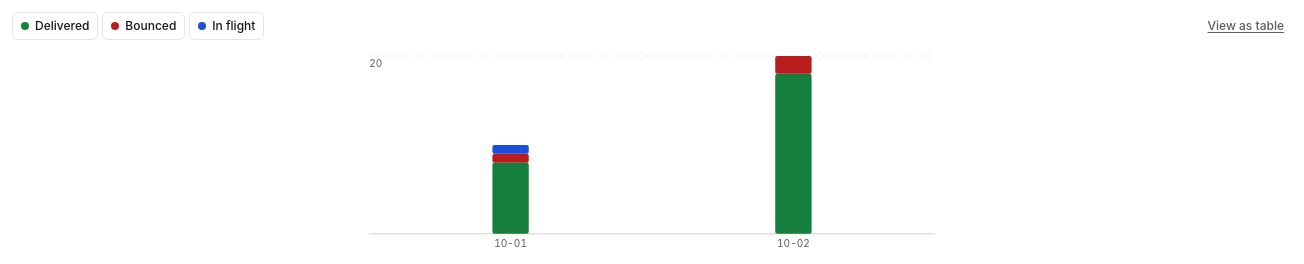
Test case: TrendChart › legend toggles series and table view lists rows
What coordinates should you click on to do the following:
click the button "Bounced"
I would click on:
 (144, 26)
Its box is [102,12,185,40].
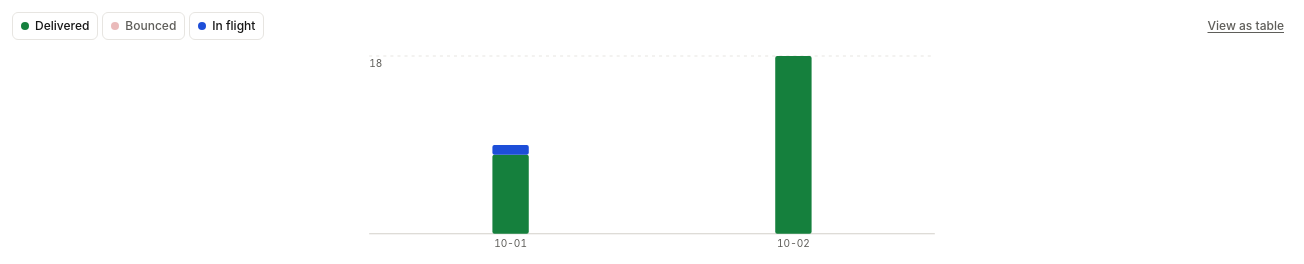
What coordinates should you click on to do the following:
click the button "View as table"
I would click on:
 (1246, 26)
Its box is [1200,12,1292,40].
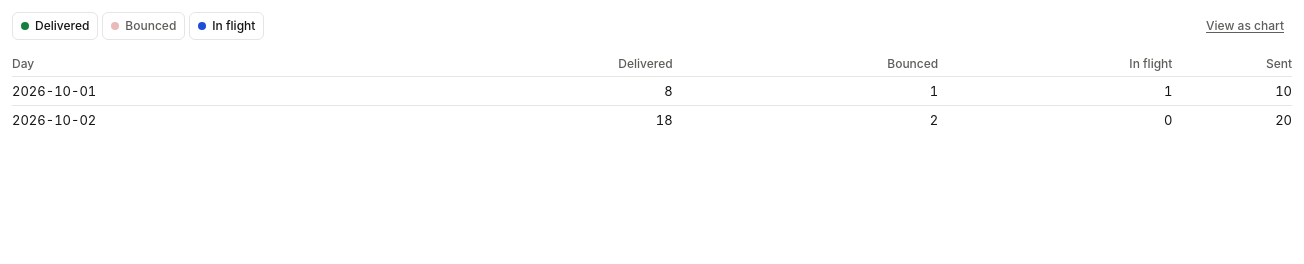
expect the number of rows is 3: met, box [12,52,1292,76]; [12,76,1292,106]; [12,106,1292,134]
